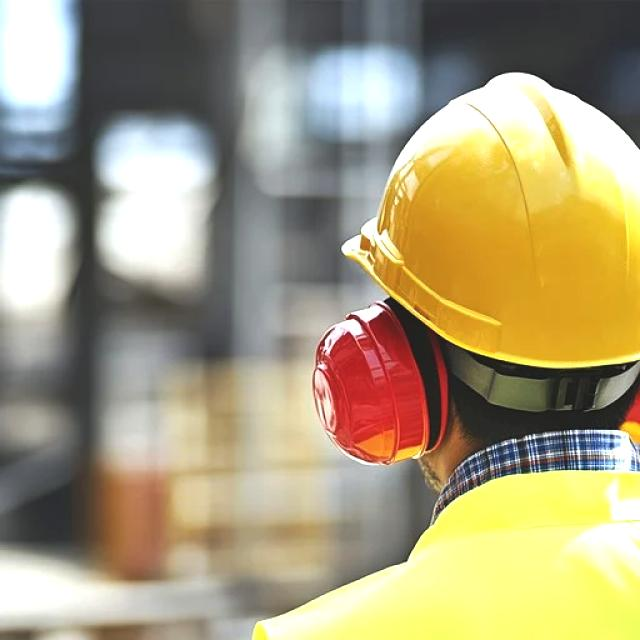Ear Muffs: (315, 297, 463, 471)
Hard Hat: (328, 72, 636, 407)
Reflective Vest: (210, 467, 636, 639)
